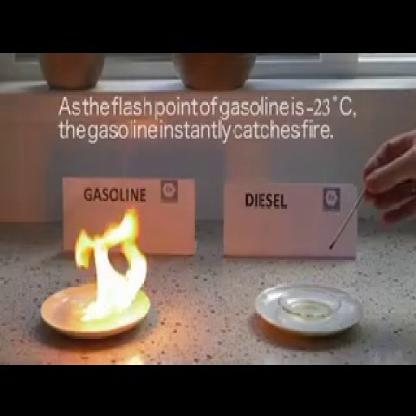fire: (70, 204, 151, 324)
